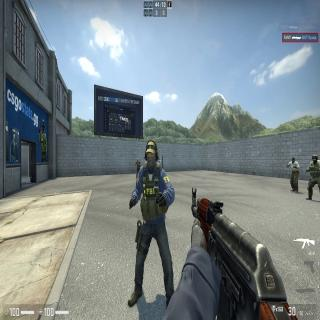CT-Body: (142, 140, 166, 290), (308, 154, 319, 200)
CT-Head: (146, 141, 157, 170), (312, 154, 318, 164)
T-Body: (289, 156, 298, 192), (137, 158, 141, 172)
T-Head: (291, 156, 295, 164), (137, 158, 139, 162)
